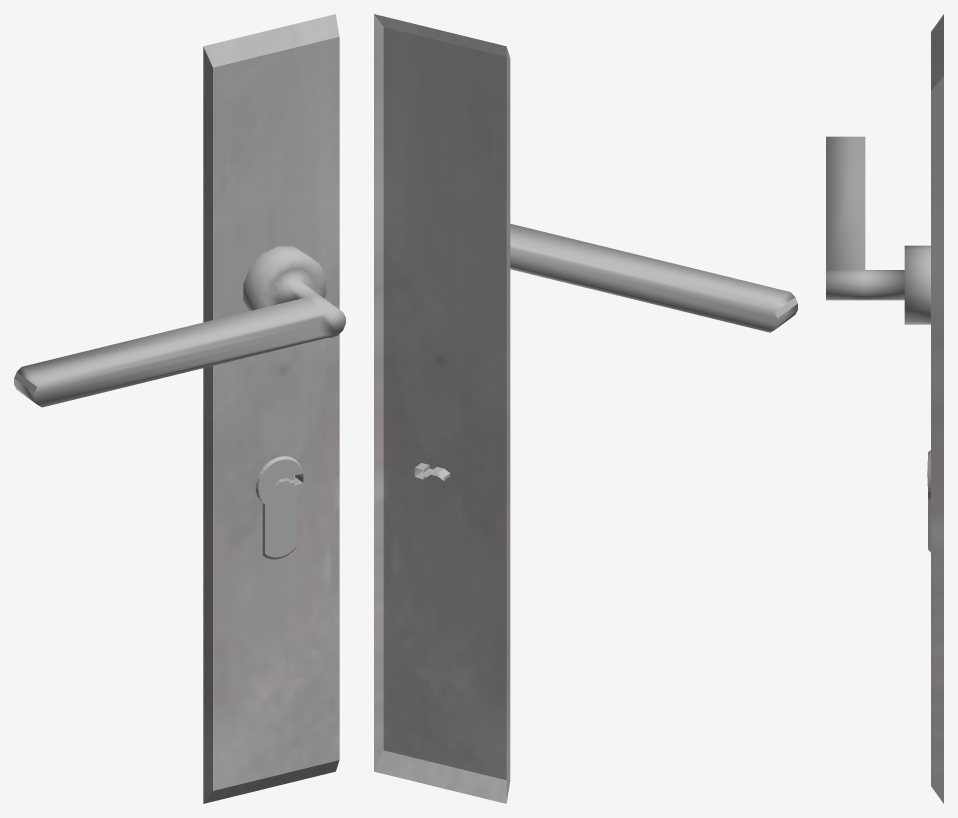
The model's file is FrontDoor_Part_Handle.fbx.
3 renders of one model, left to right at view 1: azimuth 30°, elevation 25°; view 2: azimuth 150°, elevation 25°; view 3: azimuth 270°, elevation 25°, orthographic. The views are drawn at different scales.
Visible parts, largest first — view 1: Handle; view 2: Handle; view 3: Handle.
Boxes of the visible parts, x1,y1,x2,y2 form: Handle: [14, 14, 345, 803]; Handle: [374, 14, 797, 803]; Handle: [826, 14, 943, 803].
Size of the model in its own units: 15.33 by 30.6 by 4.49.
